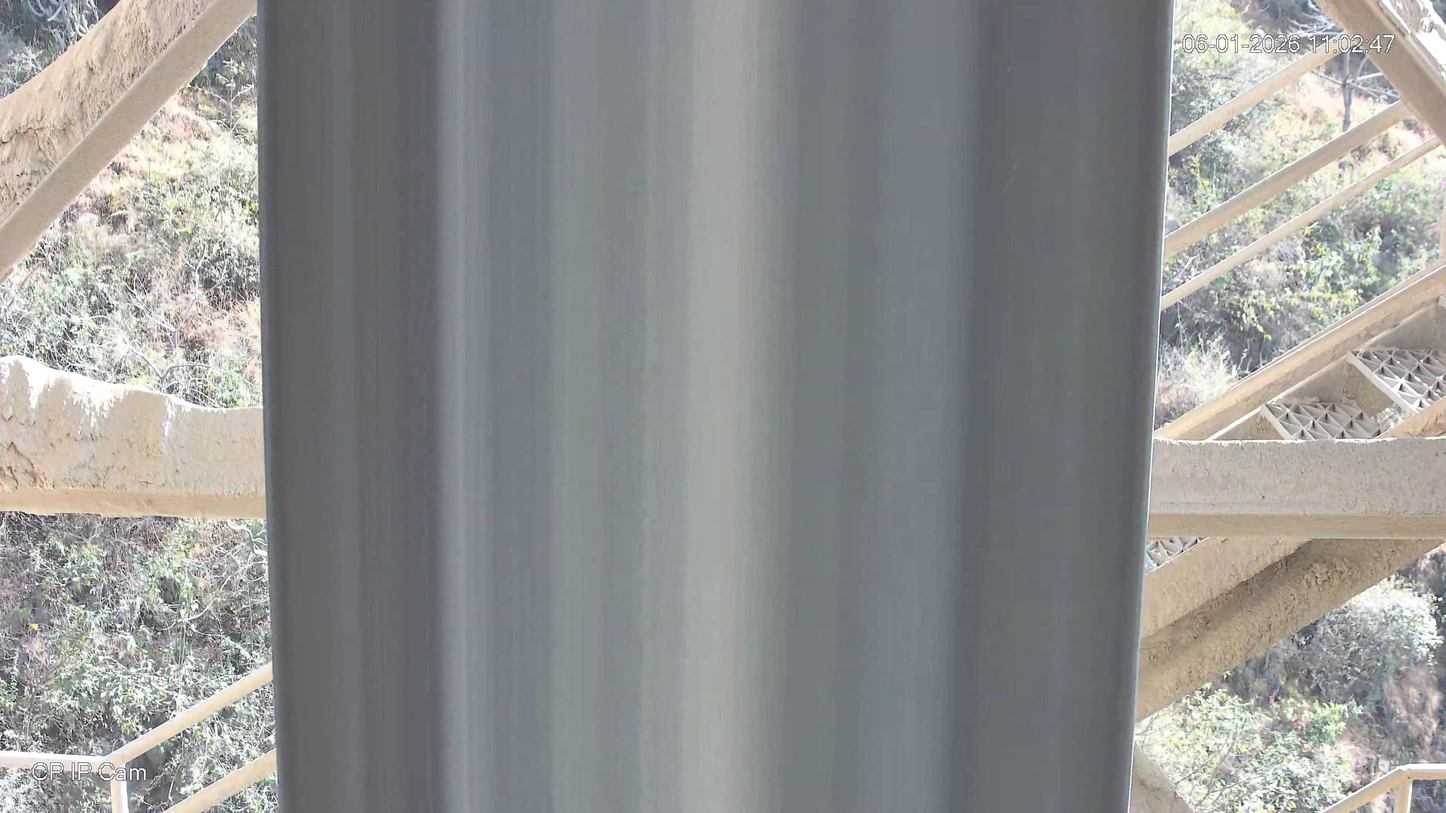belt_roi: (258, 0, 1175, 813)
